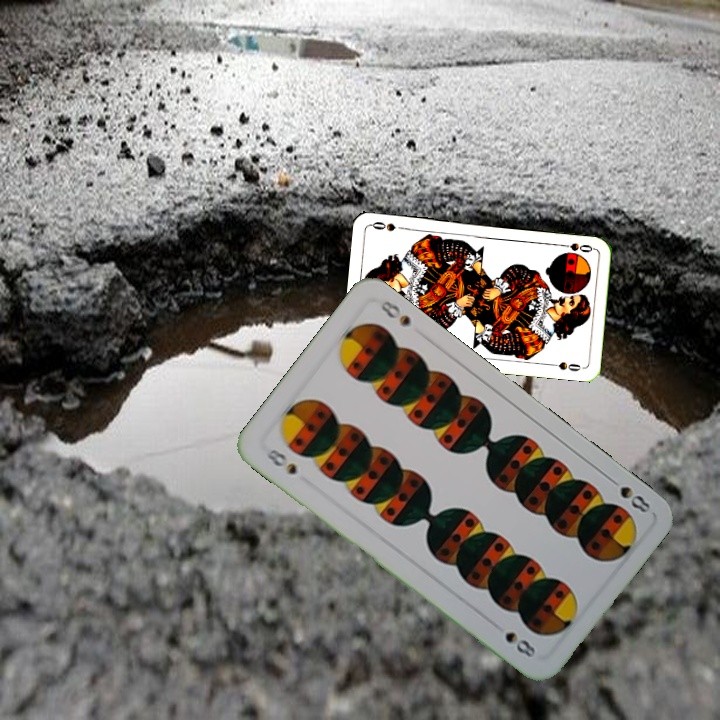S8: (603, 472, 653, 516), (258, 444, 300, 478)
SO: (555, 239, 596, 255)
